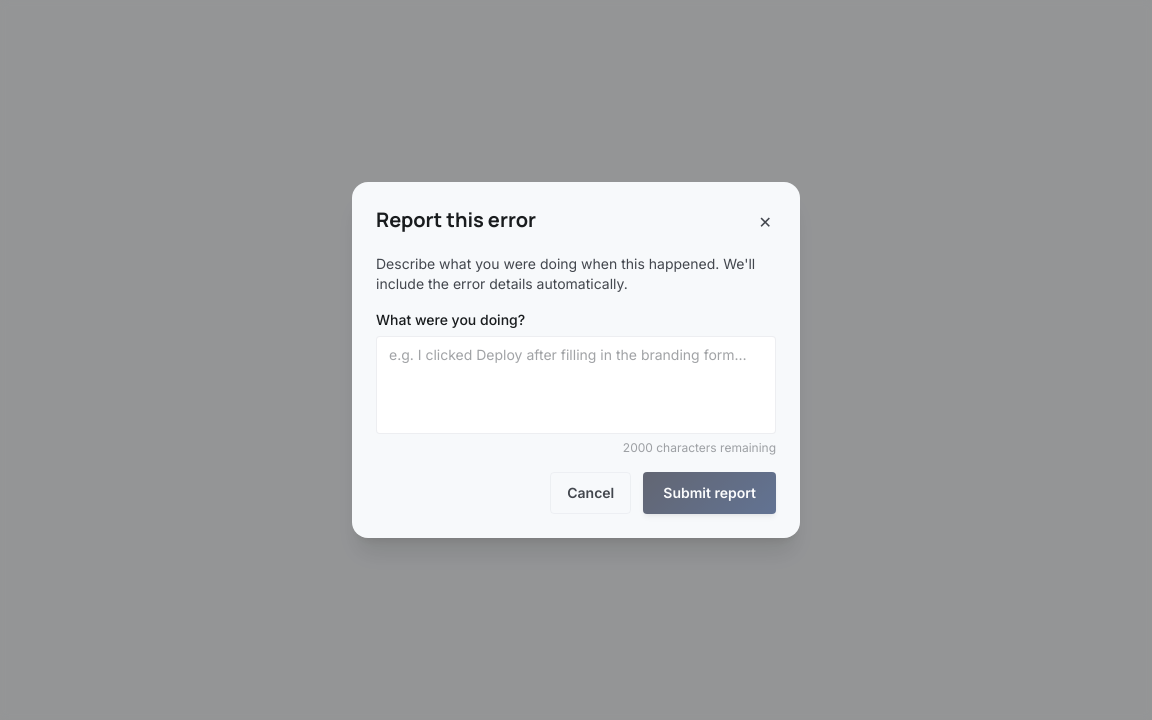
ErrorReportForm › shows error message when submission fails
Step 1. Type "I clicked deploy" into the text box labelled "What were you doing?" → point(576, 385), box [376,336,776,434]
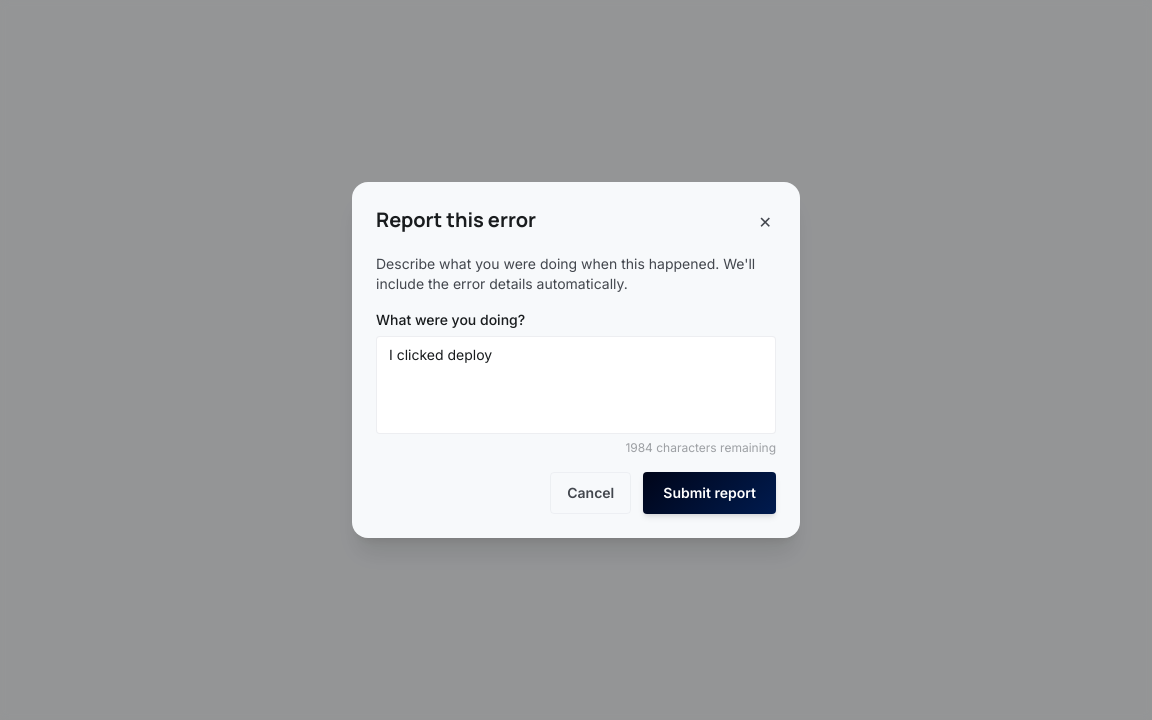
Step 2. Click the button "Submit report" → point(710, 493), box [643,472,776,514]
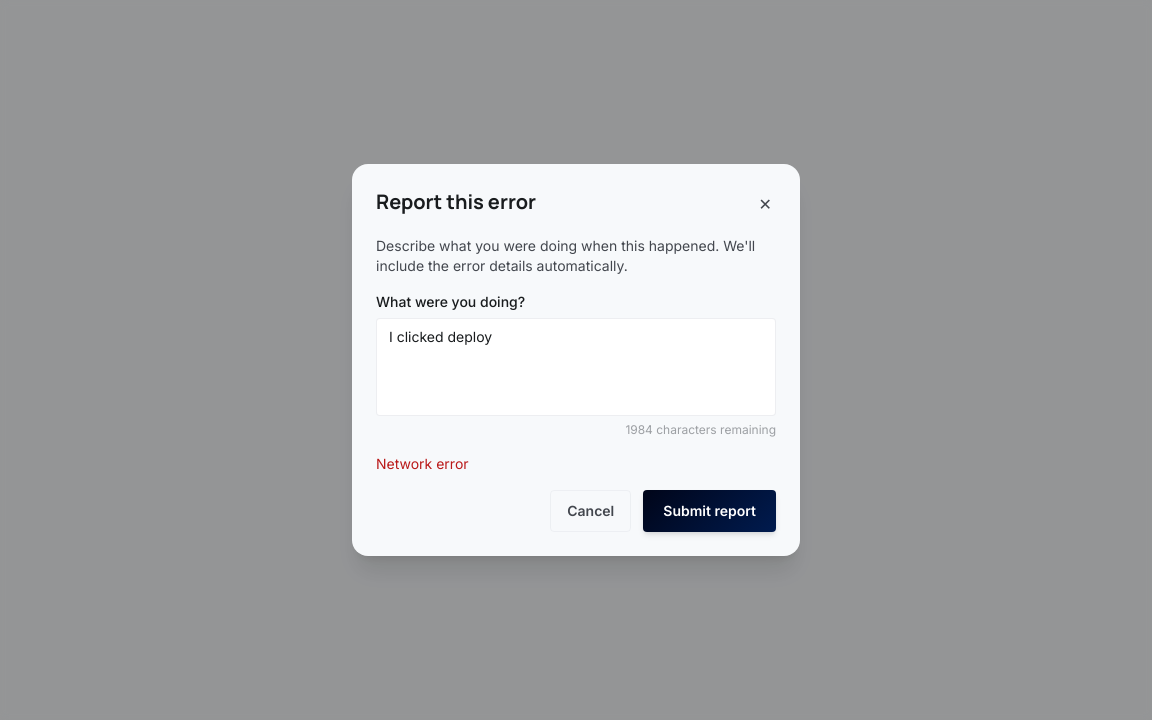
Now the text "Network error" is shown, box [376,455,469,472]
